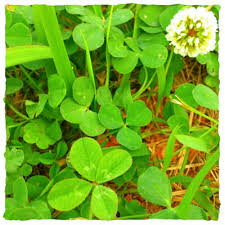4-clover: (48, 137, 133, 219)
